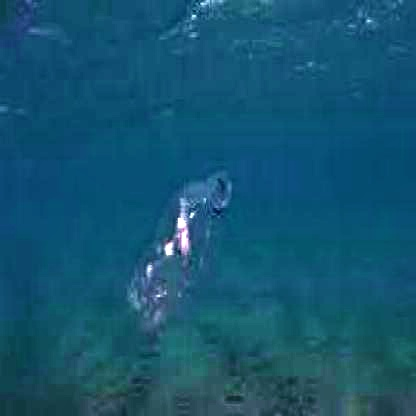pbottle: (120, 158, 239, 337)
